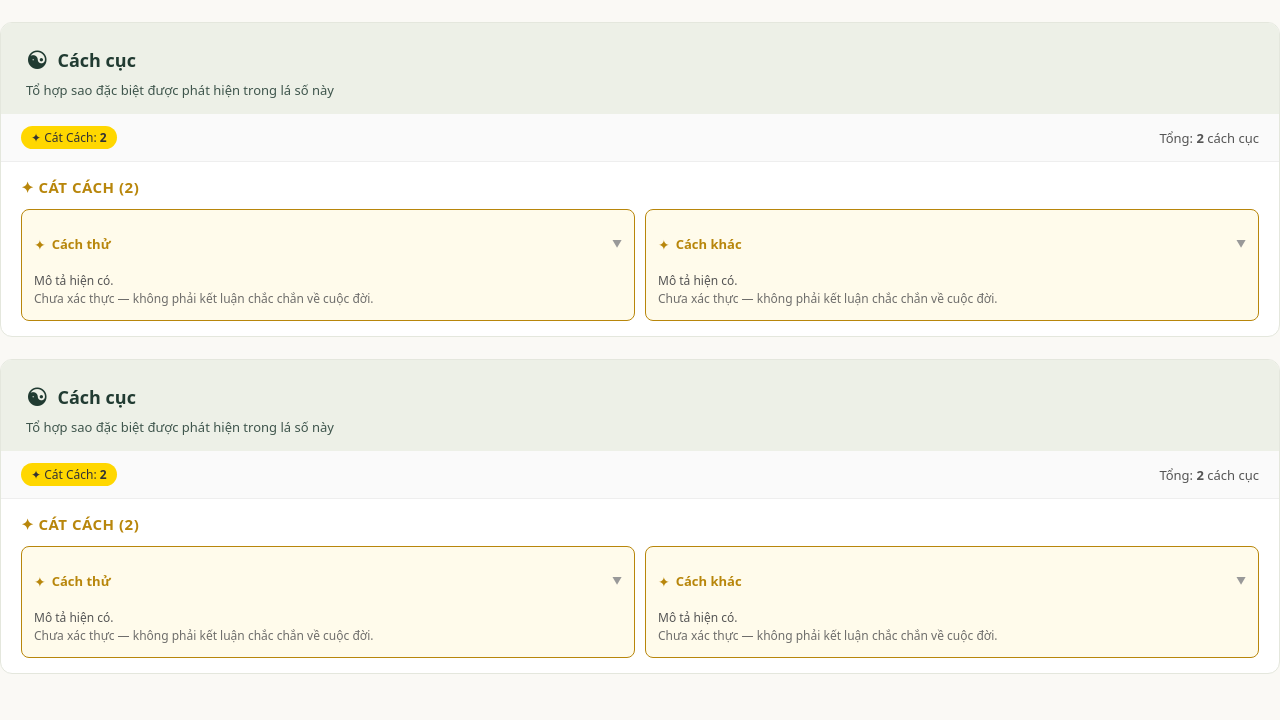
uses distinct controls for duplicate catalog IDs and separate panel instances
The width and height of the screenshot is (1280, 720).
Click the 1st button "✦ Cách thử ▼" at [81, 244], box [34,222,622,266]
(page scrolled)
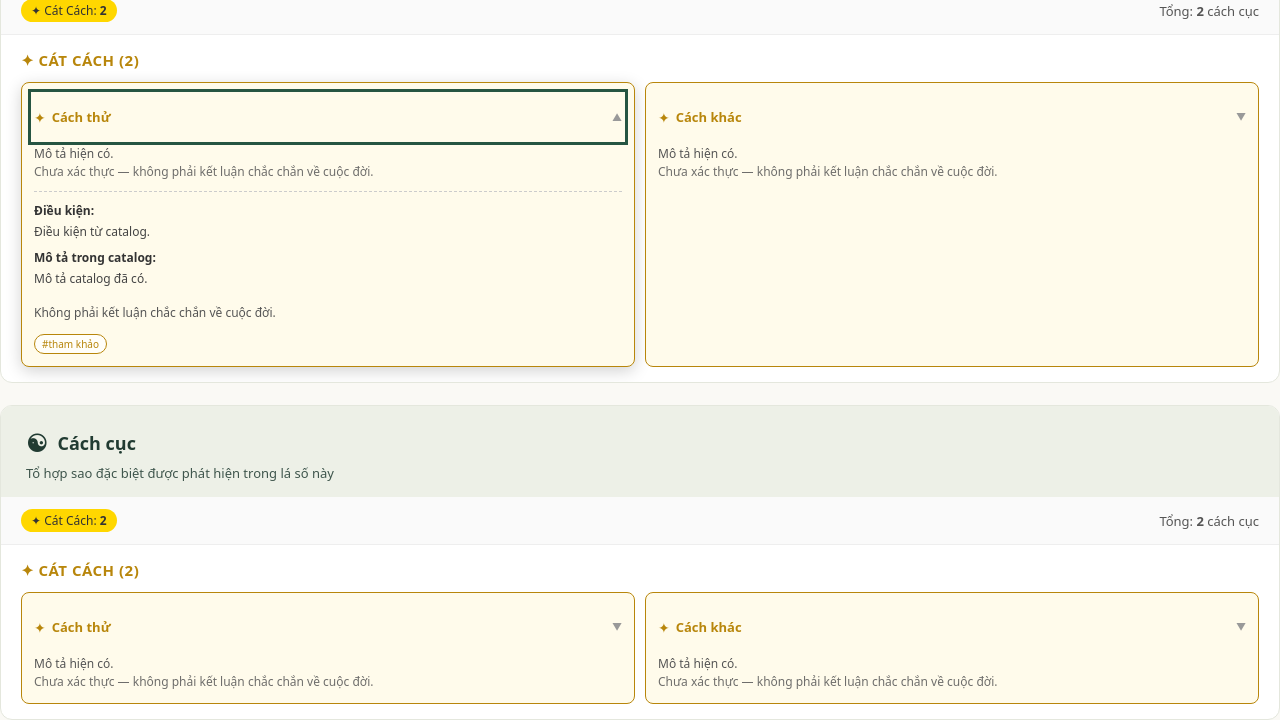
Now the button "✦ Cách thử ▲" is expanded, box [34,95,622,139]
